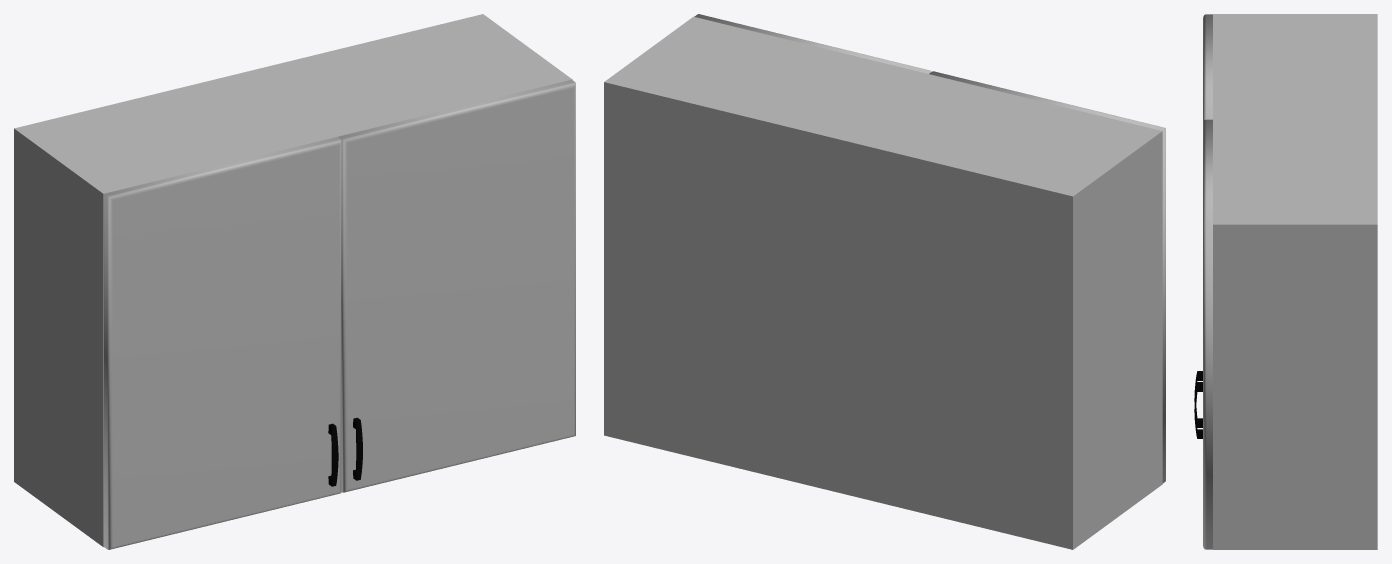
3 views of the same model, side by side, from view 1: azimuth 30°, elevation 25°; view 2: azimuth 150°, elevation 25°; view 3: azimuth 270°, elevation 25° (orthographic). The views are drawn at different scales.
Parts seen in each view (by area): view 1: Box011, Box012, Box001; view 2: Box001, Box011, Box012; view 3: Box001, Box012, Box011.
Part boxes in pixels (bbox=[...]): Box011: bbox=[104, 137, 341, 549]; Box012: bbox=[338, 79, 575, 492]; Box001: bbox=[14, 14, 572, 547]; Box001: bbox=[604, 16, 1162, 549]; Box011: bbox=[929, 71, 1165, 483]; Box012: bbox=[694, 14, 931, 73]; Box001: bbox=[1213, 14, 1377, 549]; Box012: bbox=[1203, 119, 1212, 549]; Box011: bbox=[1203, 14, 1212, 122].
Size of the model in its own units: 1 by 0.72 by 0.3671.
Materials: 2 (1 with a texture image).
